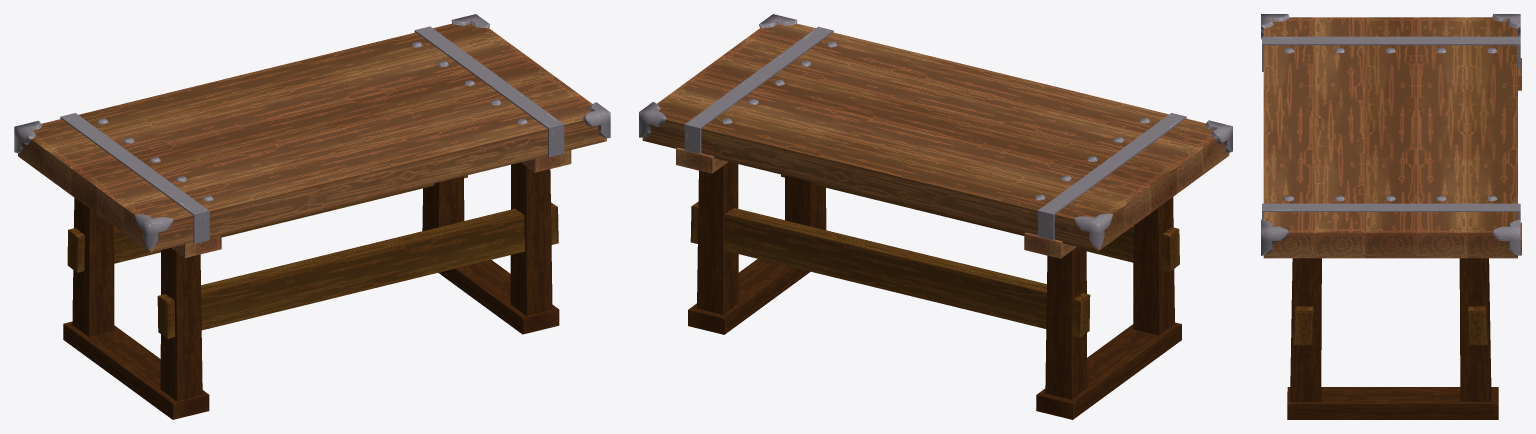
Rendered from Workbench.gltf.
3 renders of one model, left to right at view 1: azimuth 30°, elevation 25°; view 2: azimuth 150°, elevation 25°; view 3: azimuth 270°, elevation 25°, orthographic. The views are drawn at different scales.
Visible parts, largest first — view 1: Workbench; view 2: Workbench; view 3: Workbench.
Part boxes in pixels (x1,y1,x2,y2): Workbench: (14, 14, 610, 419); Workbench: (639, 14, 1232, 419); Workbench: (1261, 14, 1521, 419).
Bounding box in the file's own units: 2.02 × 0.8946 × 1.02.
2 materials, 2 textured.
